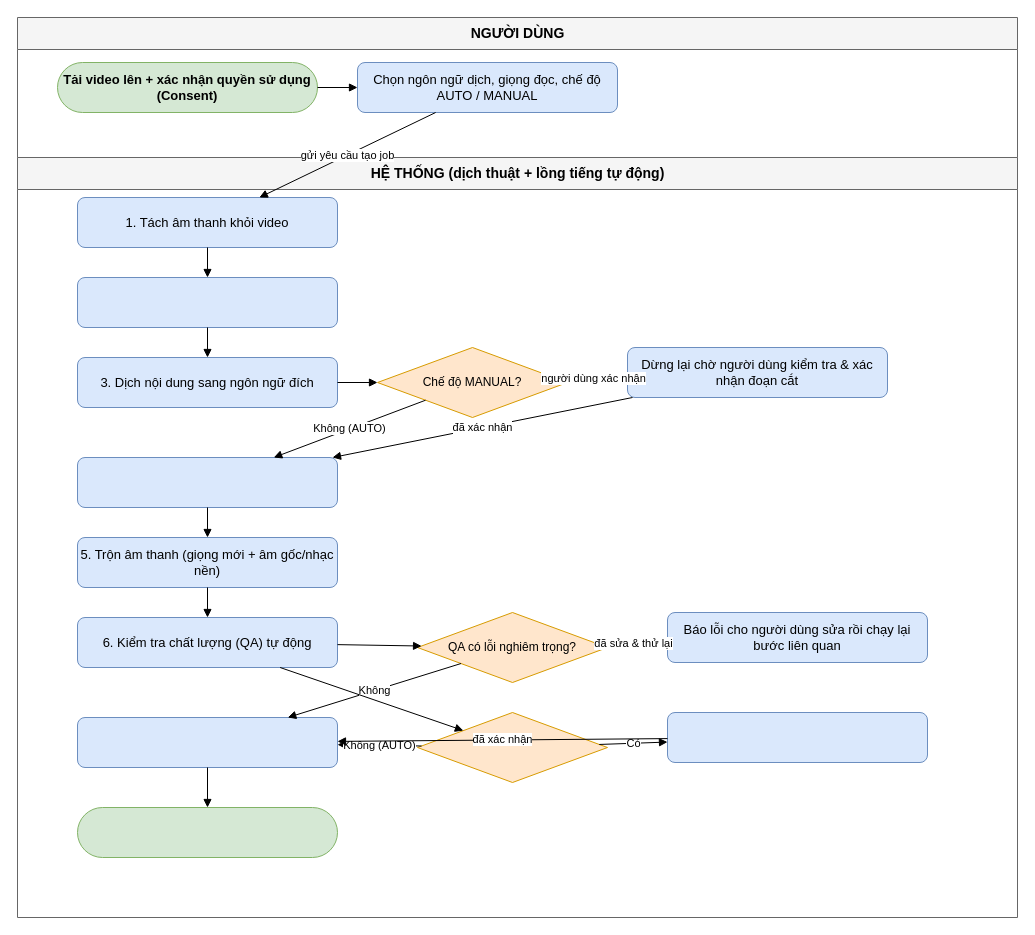
Image size: 1035x935. Some labels were removed from this diagram. Here are the shapes that lost their labels. From the top down, the centre of each, then its label:
At point (207, 302): "2. Nhận diện lời thoại (Speech-to-Text)".
At point (207, 482): "4. Lồng tiếng (Text-to-Speech) theo từng câu".
At point (207, 742): "7. Render video hoàn chỉnh (ghép phụ đề / lồng tiếng vào video)".
At point (512, 747): "Chế độ MANUAL? (cần xác nhận trước khi render)".
At point (797, 737): "Dừng lại chờ người dùng xem trước & Xác nhận Render".
At point (207, 832): "8. Hoàn tất: video có thể xem / tải về / xuất phụ đề".
